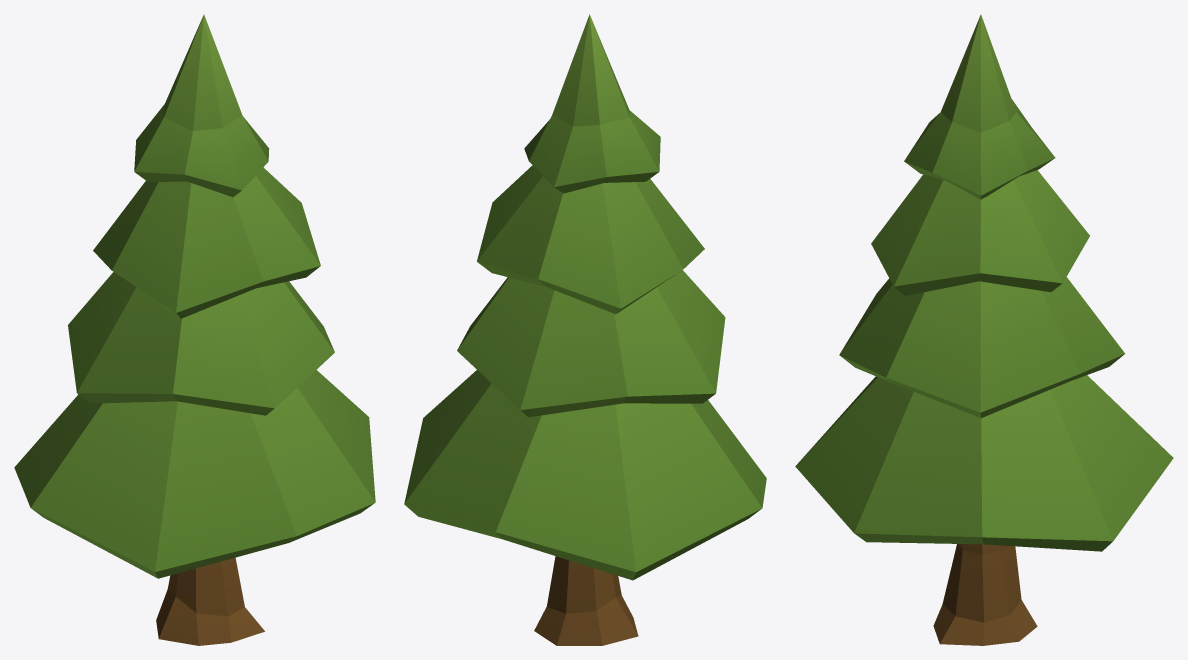
File: tree001.gltf
3 views of the same model, side by side, from view 1: azimuth 30°, elevation 25°; view 2: azimuth 150°, elevation 25°; view 3: azimuth 270°, elevation 25° (orthographic).
Visible parts, largest first — view 1: Tree_Spruce_small_01; view 2: Tree_Spruce_small_01; view 3: Tree_Spruce_small_01.
Part boxes in pixels (bbox=[...]): Tree_Spruce_small_01: bbox=[14, 14, 375, 645]; Tree_Spruce_small_01: bbox=[404, 14, 766, 645]; Tree_Spruce_small_01: bbox=[795, 14, 1173, 645].
Bounding box in the file's own units: 10.58 × 18.26 × 10.26.
1 material, 1 textured.
